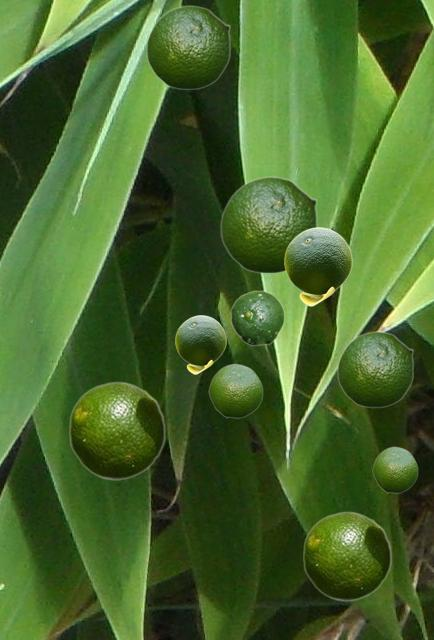calamansi: (68, 381, 165, 479), (220, 176, 317, 273), (302, 511, 391, 600), (146, 5, 230, 89), (337, 331, 413, 407), (284, 227, 351, 305), (230, 290, 284, 345), (208, 363, 262, 417), (175, 315, 225, 373), (372, 446, 417, 492)
